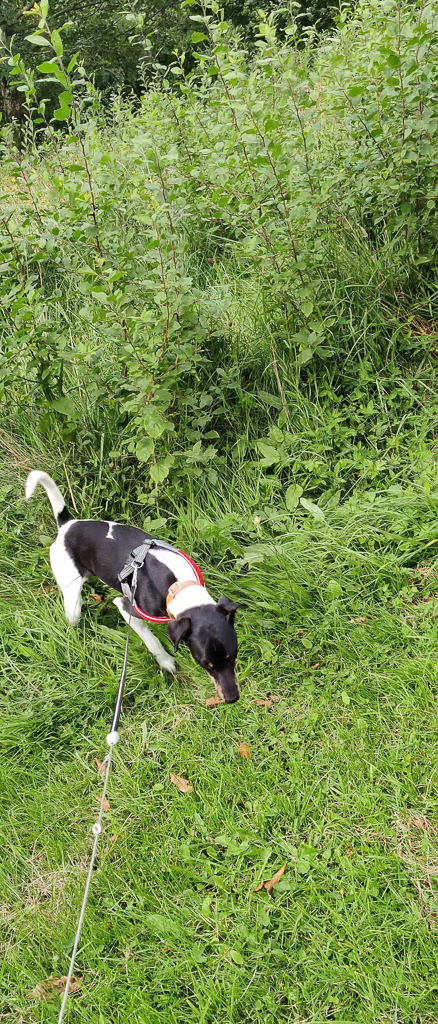Dog: (22, 458, 254, 718)
